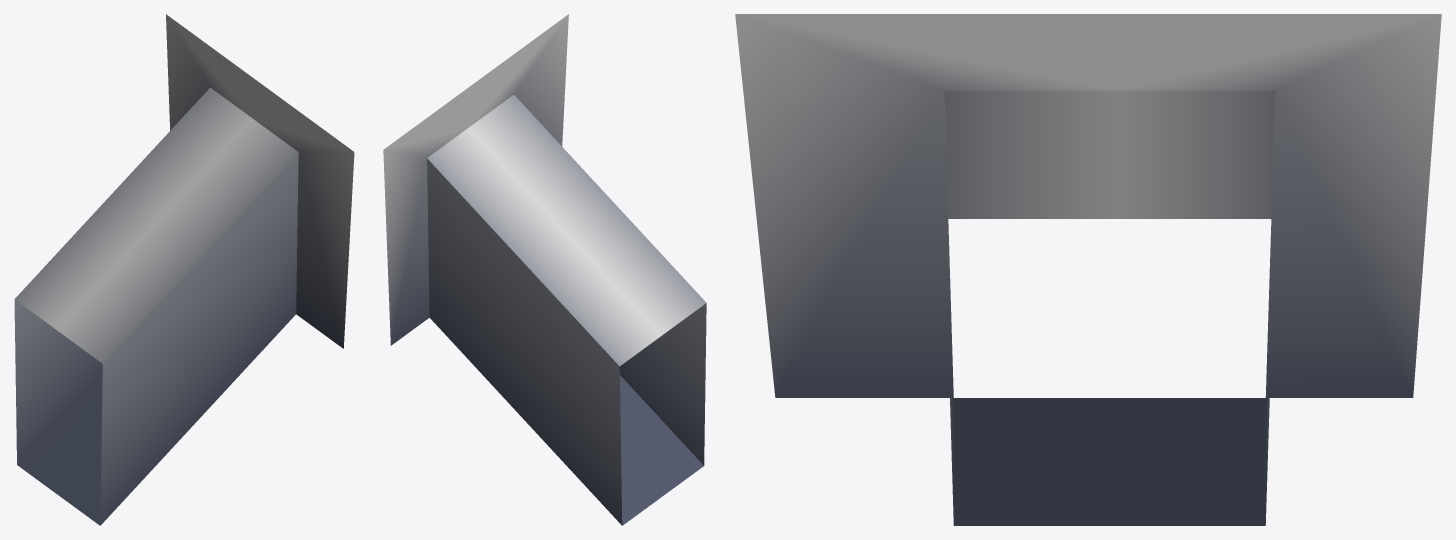
The model's file is Level1.Cobble_Wall.obj.
3 renders of one model, left to right at view 1: azimuth 30°, elevation 25°; view 2: azimuth 150°, elevation 25°; view 3: azimuth 270°, elevation 25°, orthographic. The views are drawn at different scales.
Parts seen in each view (by area): view 1: Plane.002; view 2: Plane.002; view 3: Plane.002.
Part boxes in pixels (x1,y1,x2,y2): Plane.002: [14, 14, 354, 525]; Plane.002: [383, 14, 706, 525]; Plane.002: [735, 14, 1441, 525].
Bounding box in the file's own units: 5 × 9 × 8.34.
